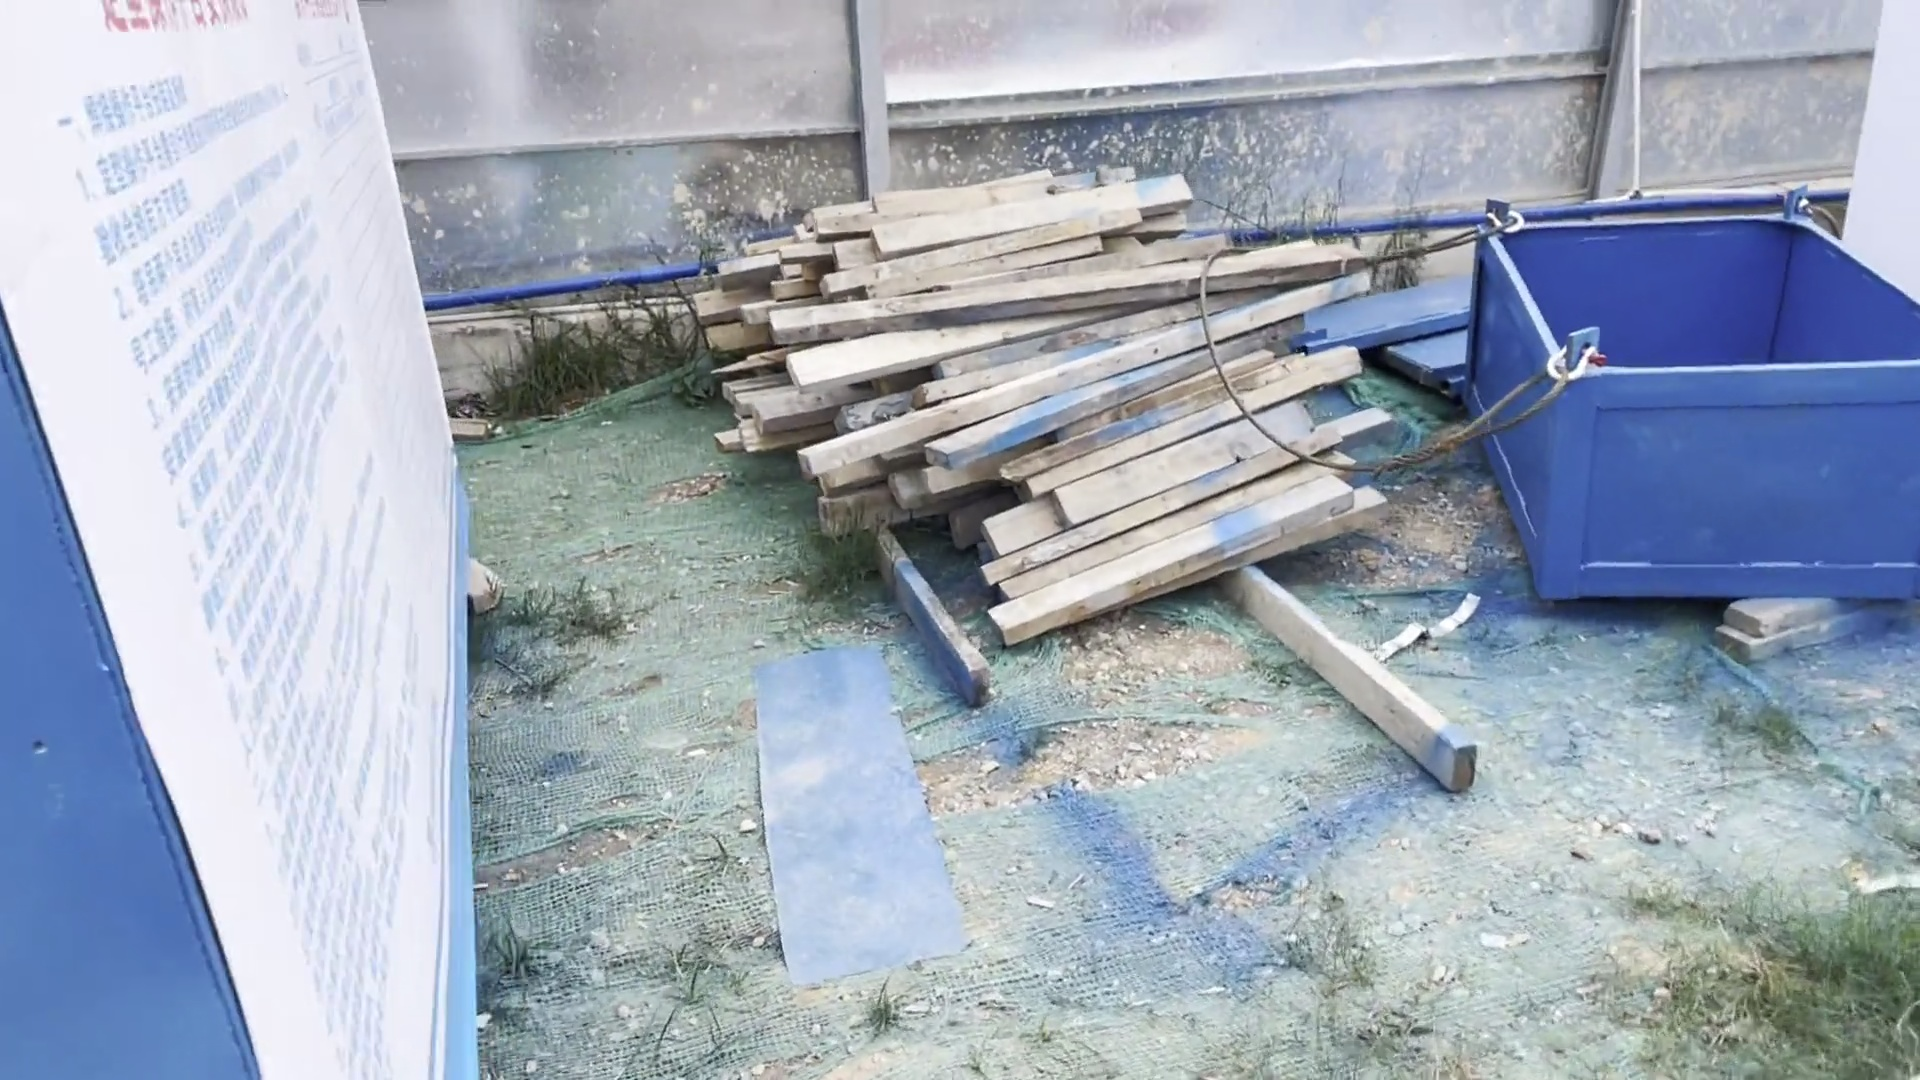hopper: (1456, 175, 1920, 613)
wood: (717, 127, 1470, 796)
